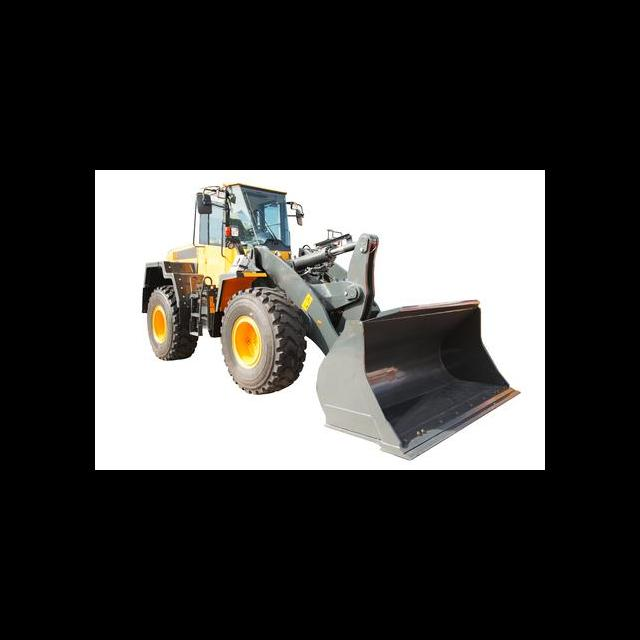wheel loader: (135, 183, 523, 460)
